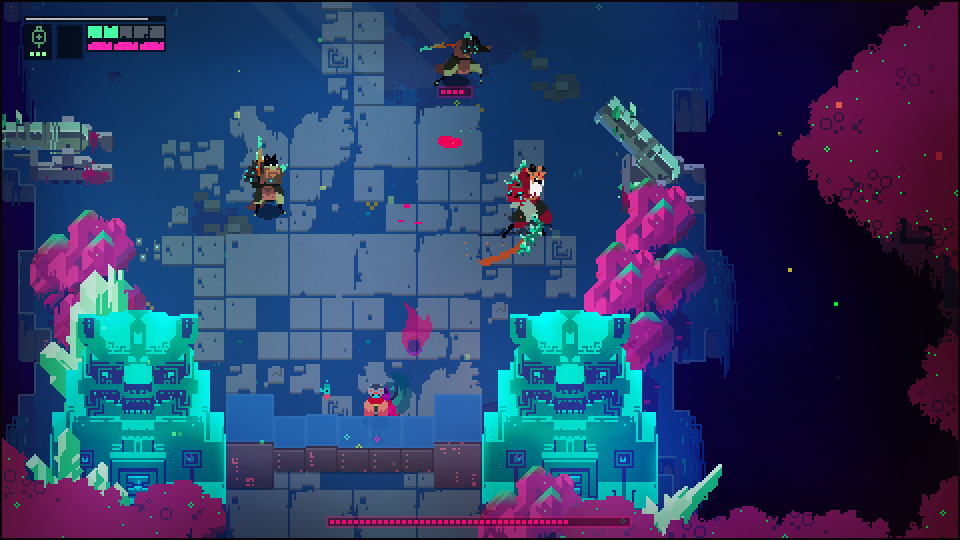hanged_man: (490, 158, 552, 263)
player: (360, 377, 392, 417)
